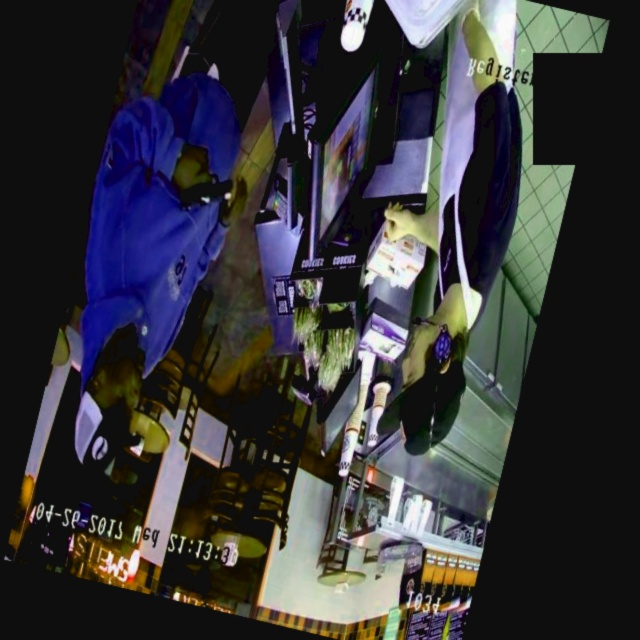gun: (159, 154, 247, 234)
